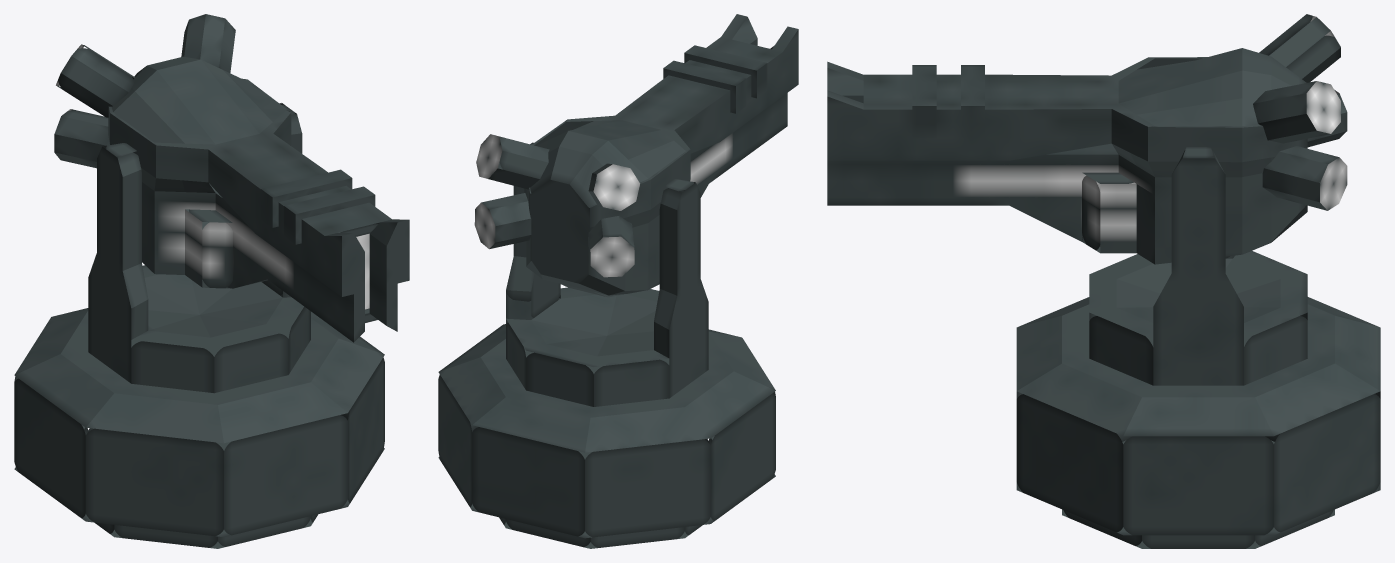
File: BossTurret.fbx
3 views of the same model, side by side, from view 1: azimuth 30°, elevation 25°; view 2: azimuth 150°, elevation 25°; view 3: azimuth 270°, elevation 25° (orthographic). The views are drawn at different scales.
Visible parts, largest first — view 1: BasePlate, Cannon, Y-RotPoint; view 2: BasePlate, Cannon, Y-RotPoint; view 3: Cannon, BasePlate, Y-RotPoint.
Boxes of the visible parts, box(x1,y1,x2,y2) form: BasePlate: box(14, 308, 384, 548); Cannon: box(54, 14, 409, 342); Y-RotPoint: box(88, 103, 310, 393); BasePlate: box(438, 324, 775, 548); Cannon: box(474, 14, 798, 297); Y-RotPoint: box(506, 142, 708, 406); Cannon: box(827, 14, 1347, 264); BasePlate: box(1016, 297, 1380, 548); Y-RotPoint: box(1089, 147, 1307, 385).
Bounding box in the file's own units: 62.5 × 83.84 × 95.
Materials: 1 (1 with a texture image).
